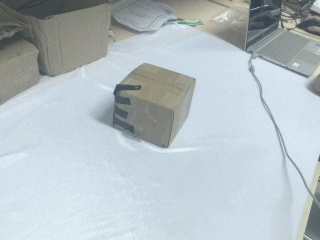box: (3, 1, 117, 76), (113, 63, 195, 147), (1, 25, 37, 109)
